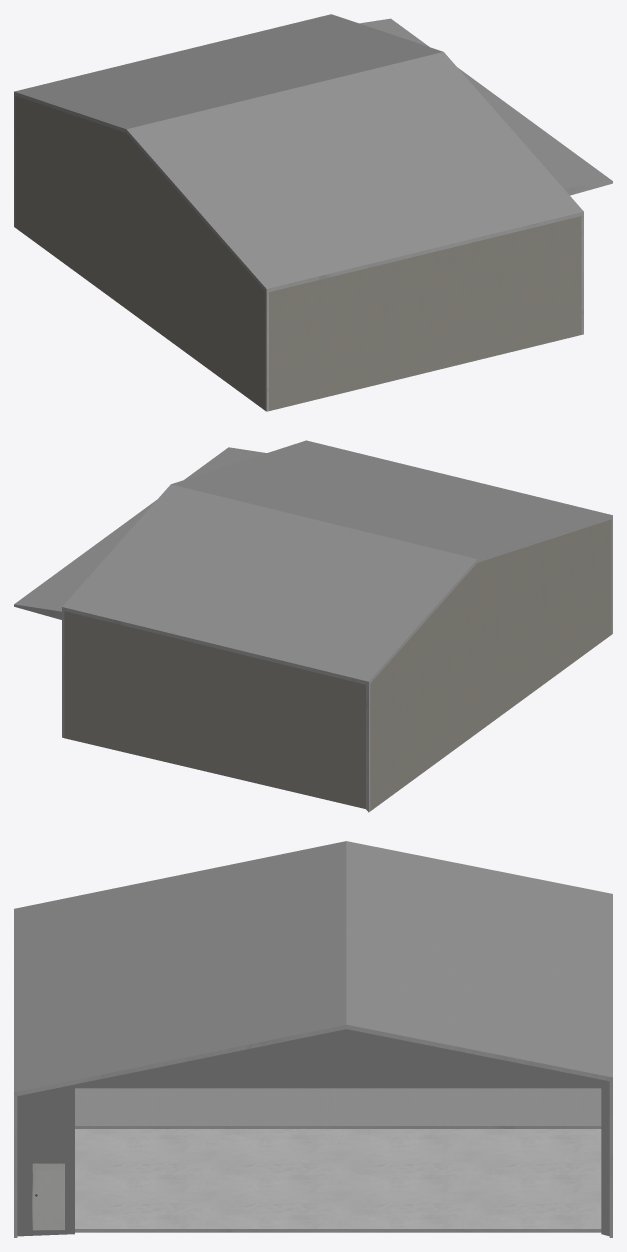
The model's file is gen_open_hangar01-18x13x5-cbj_LOD04.gltf.
The picture shows the model from 3 angles, top to bottom: view 1: azimuth 30°, elevation 25°; view 2: azimuth 150°, elevation 25°; view 3: azimuth 270°, elevation 25°; orthographic projection. The views are drawn at different scales.
Visible parts, largest first — view 1: Cube.017; view 2: Cube.017; view 3: Cube.017.
Boxes of the visible parts, x1=… form: Cube.017: x1=14, y1=14, x2=612, y2=411; Cube.017: x1=14, y1=440, x2=612, y2=812; Cube.017: x1=14, y1=841, x2=612, y2=1237.
Bounding box in the file's own units: 15.47 × 7.15 × 18.2.
